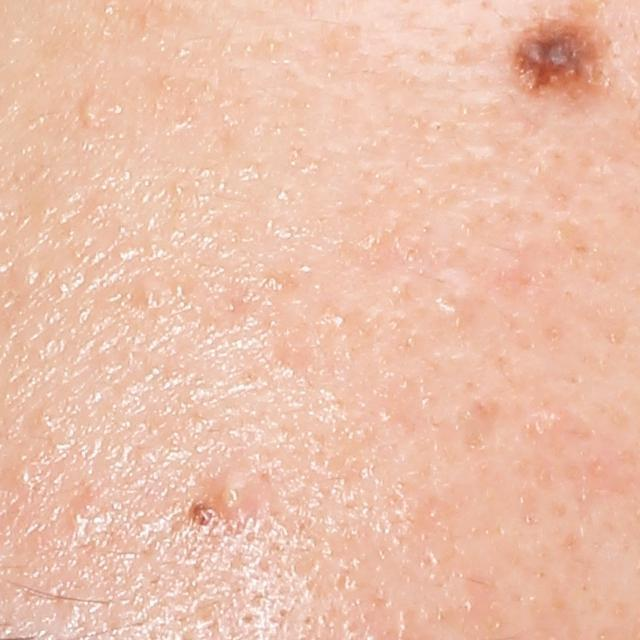comedo: (6, 457, 39, 493), (80, 100, 102, 128)
nevus: (506, 17, 606, 98), (188, 499, 216, 532)
pustule: (212, 464, 262, 526)
